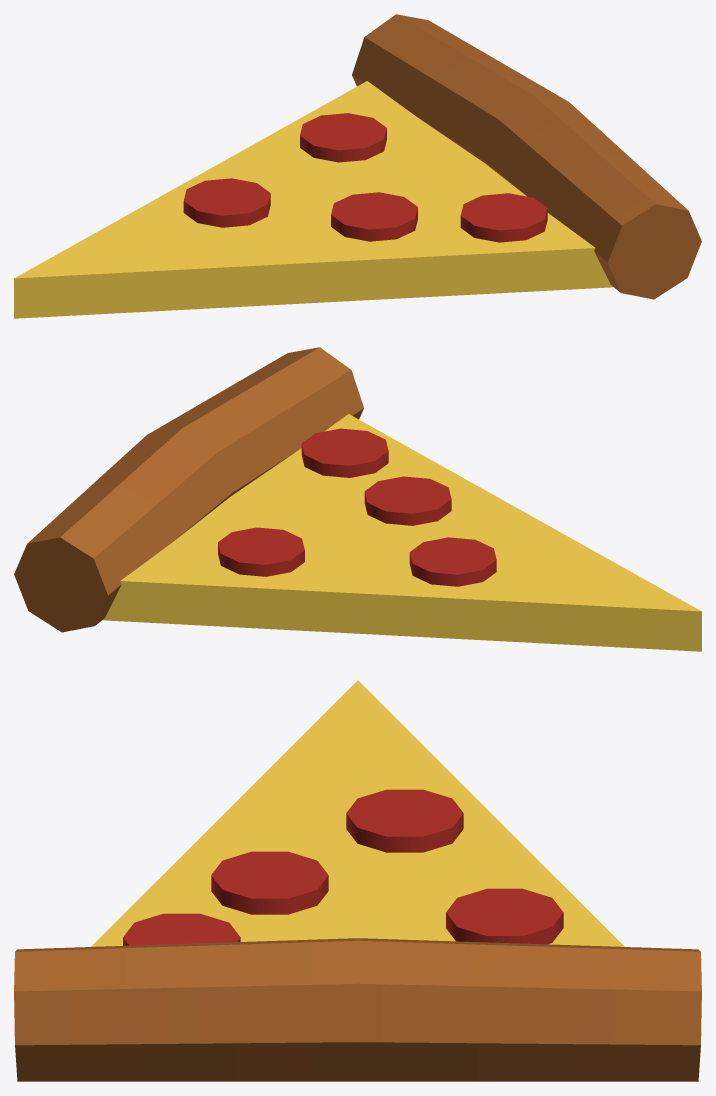
Rendered from PizzaSlice.fbx.
3 renders of one model, top to bottom at view 1: azimuth 30°, elevation 25°; view 2: azimuth 150°, elevation 25°; view 3: azimuth 270°, elevation 25°, orthographic. The views are drawn at different scales.
Visible parts, largest first — view 1: PizzaSlice; view 2: PizzaSlice; view 3: PizzaSlice.
Part boxes in pixels (x1,y1,x2,y2): PizzaSlice: (14, 14, 701, 318); PizzaSlice: (14, 347, 701, 651); PizzaSlice: (14, 680, 701, 1081).
Size of the model in its own units: 1.48 by 0.2699 by 1.17.
Materials: 1 (1 with a texture image).
